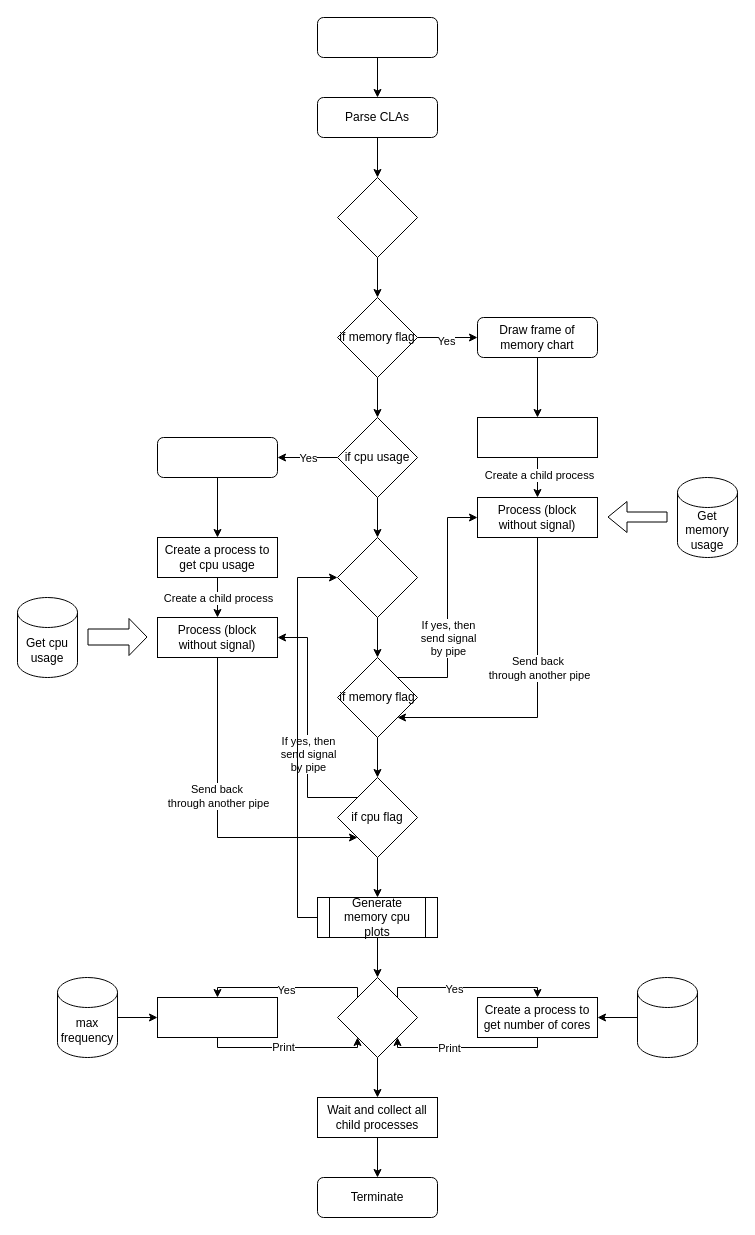
The diagram is 755 pixels wide and 1235 high, and some of its shapes have lost their labels. Each missing label, with the centre of its shape:
"Create a process to get memory usage" belongs at (x=537, y=437).
"Create a process to get the max frequency" belongs at (x=217, y=1017).
"Draw frame of cpu chart" belongs at (x=217, y=457).
"If cores flag" belongs at (x=377, y=1017).
"number of cores" belongs at (x=667, y=1017).
"Read CLAs" belongs at (x=377, y=37).
"repeat until samples completed" belongs at (x=377, y=577).
"Valid CLAs" belongs at (x=377, y=217).
